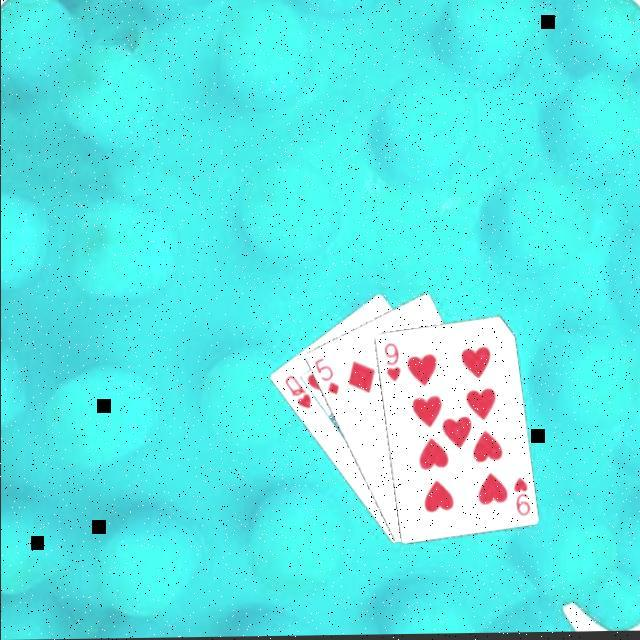5D: (312, 354, 343, 398)
9H: (381, 339, 405, 385), (510, 474, 534, 519)
QH: (282, 372, 315, 412)
